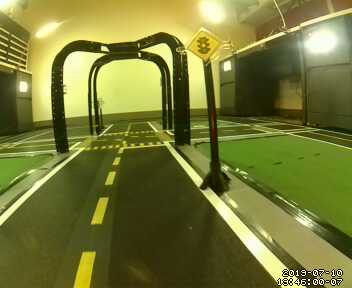Traffic light sign: (186, 29, 223, 62)
